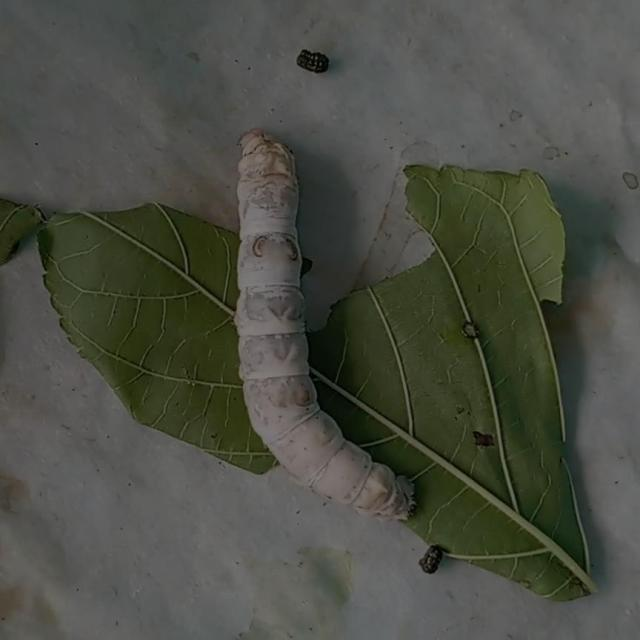Grasserie: (193, 95, 446, 533)
